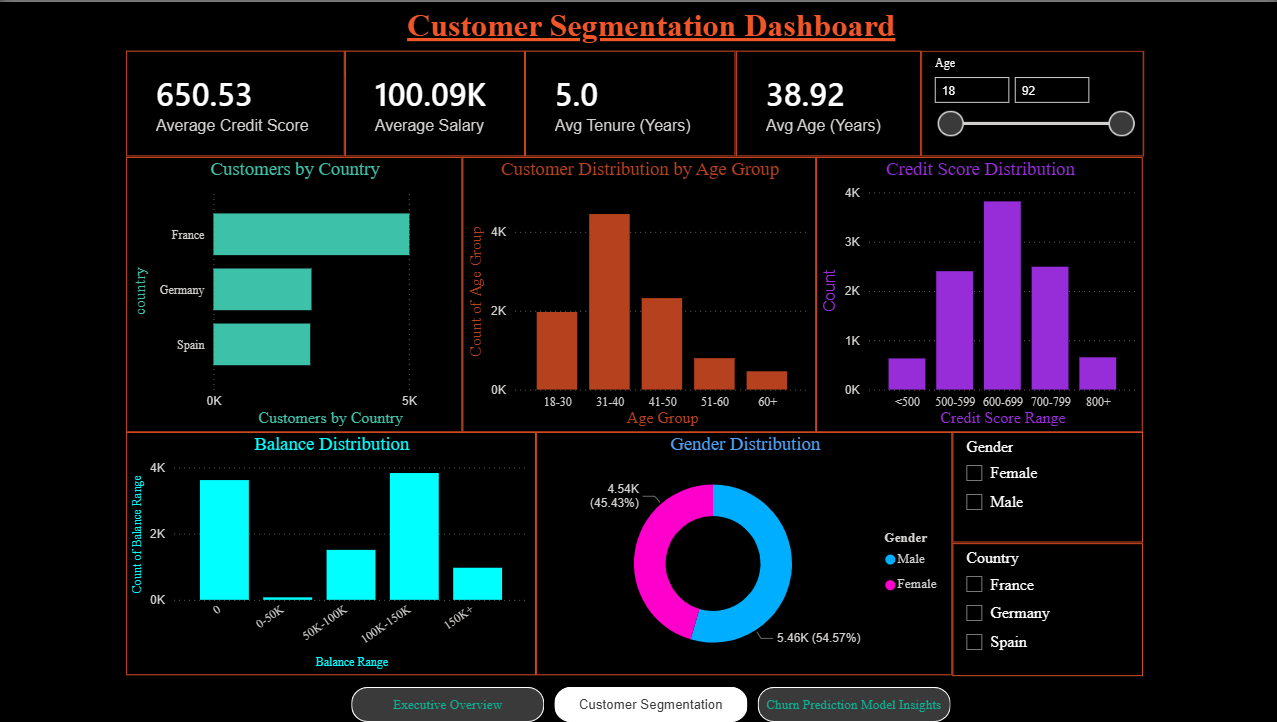

Layout of this report page (visuals, bound fields, positions):
{"tool":"powerbi","page":{"name":"Customer Segmentation","canvas":[1280,720],"ordinal":1},"visuals":[{"type":"textbox","box":[390,0,522.5,52.5],"z":0},{"type":"cardVisual","fields":{"Data":["cleaned_bank_churn.Average Credit Score"]},"box":[126.7,48.8,218.6,105.8],"z":1000},{"type":"cardVisual","fields":{"Data":["cleaned_bank_churn.Average Salary"]},"box":[345.3,48.8,180.2,105.8],"z":2000},{"type":"cardVisual","fields":{"Data":["cleaned_bank_churn.Average Tenure"]},"box":[525.6,48.8,210.5,105.8],"z":3000},{"type":"cardVisual","fields":{"Data":["cleaned_bank_churn.Average Age"]},"box":[736,48.8,184.9,105.8],"z":4000},{"type":"clusteredBarChart","title":"Customers by Country","fields":{"Y":["CountNonNull(cleaned_bank_churn.country)"],"Category":["cleaned_bank_churn.country"]},"box":[126.7,154.6,336,275.6],"z":5000},{"type":"donutChart","title":"Gender Distribution","fields":{"Category":["cleaned_bank_churn.gender"],"Y":["CountNonNull(cleaned_bank_churn.gender)"]},"box":[536,430.2,416.3,243],"z":6000},{"type":"clusteredColumnChart","title":"Customer Distribution by Age Group","fields":{"Category":["cleaned_bank_churn.Age Group"],"Y":["CountNonNull(cleaned_bank_churn.Age Group)"]},"box":[462.8,154.6,353.5,275.6],"z":7000},{"type":"clusteredColumnChart","title":"Balance Distribution","fields":{"Category":["cleaned_bank_churn.Balance Range"],"Y":["CountNonNull(cleaned_bank_churn.Balance Range)"]},"box":[126.7,430.2,409.3,243],"z":8000},{"type":"columnChart","title":"Credit Score Distribution","fields":{"Category":["cleaned_bank_churn.Credit Score Range"],"Y":["CountNonNull(cleaned_bank_churn.Credit Score Range)"]},"box":[816.3,154.6,326.7,275.6],"z":9000},{"type":"slicer","fields":{"Values":["cleaned_bank_churn.country"]},"box":[952.3,540.7,190.7,132.6],"z":10000},{"type":"slicer","fields":{"Values":["cleaned_bank_churn.age"]},"box":[920.9,48.8,222.1,105.8],"z":11000},{"type":"slicer","fields":{"Values":["cleaned_bank_churn.gender"]},"box":[952.3,430.2,190.7,110.5],"z":12000},{"type":"pageNavigator","box":[351.2,685,600,35],"z":13000}]}

Visuals, with their boxes in screenshot pixels (x1, y1, x2, y2), scaled from the page's 1280x720 canvas onto the 1277x722 screenshot:
textbox: BBox(389, 0, 910, 53)
cardVisual - cleaned_bank_churn.Average Credit Score: BBox(126, 49, 344, 155)
cardVisual - cleaned_bank_churn.Average Salary: BBox(344, 49, 524, 155)
cardVisual - cleaned_bank_churn.Average Tenure: BBox(524, 49, 734, 155)
cardVisual - cleaned_bank_churn.Average Age: BBox(734, 49, 919, 155)
"Customers by Country" clusteredBarChart: BBox(126, 155, 462, 431)
"Gender Distribution" donutChart: BBox(535, 431, 950, 675)
"Customer Distribution by Age Group" clusteredColumnChart: BBox(462, 155, 814, 431)
"Balance Distribution" clusteredColumnChart: BBox(126, 431, 535, 675)
"Credit Score Distribution" columnChart: BBox(814, 155, 1140, 431)
slicer - cleaned_bank_churn.country: BBox(950, 542, 1140, 675)
slicer - cleaned_bank_churn.age: BBox(919, 49, 1140, 155)
slicer - cleaned_bank_churn.gender: BBox(950, 431, 1140, 542)
pageNavigator: BBox(350, 687, 949, 721)
